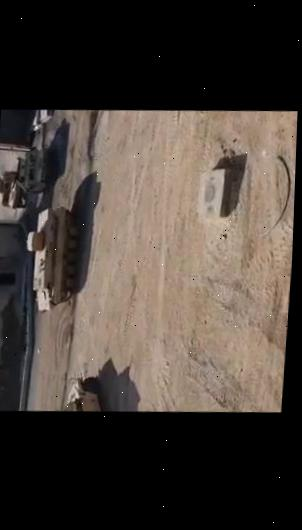armored_car: (13, 144, 57, 196), (0, 168, 31, 210)
tank: (22, 203, 84, 312)
